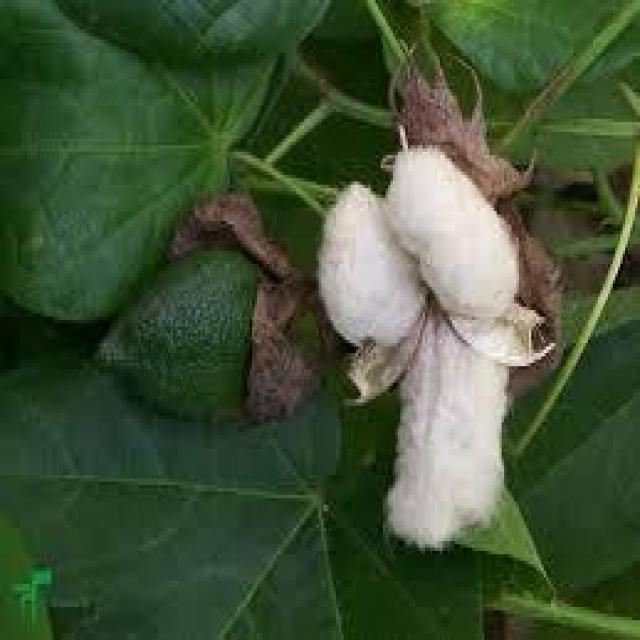Leaf: (304, 107, 568, 578)
